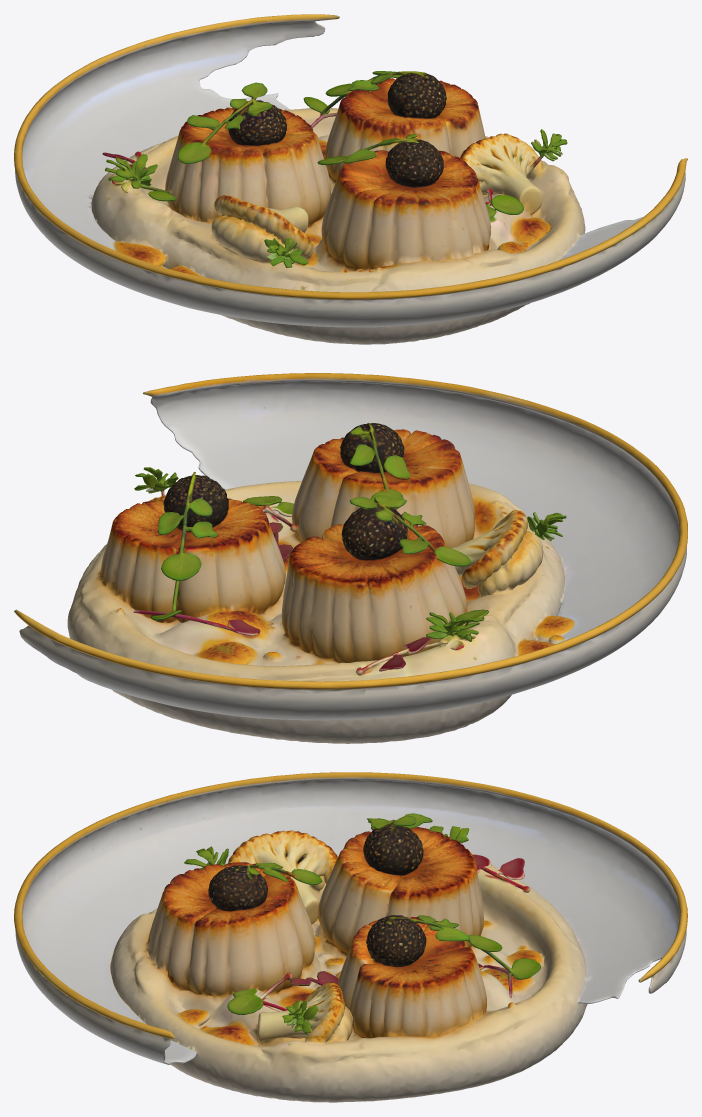
The model's file is vieiras-tripo.glb.
3 views of the same model, one above another, from view 1: azimuth 30°, elevation 25°; view 2: azimuth 150°, elevation 25°; view 3: azimuth 270°, elevation 25° (orthographic). The views are drawn at different scales.
Visible parts, largest first — view 1: tripo_node_7aa27ea9-12f6-465a-9d23-166e340445c2; view 2: tripo_node_7aa27ea9-12f6-465a-9d23-166e340445c2; view 3: tripo_node_7aa27ea9-12f6-465a-9d23-166e340445c2.
Part boxes in pixels (x1,y1,x2,y2): tripo_node_7aa27ea9-12f6-465a-9d23-166e340445c2: [14, 14, 687, 344]; tripo_node_7aa27ea9-12f6-465a-9d23-166e340445c2: [14, 373, 687, 743]; tripo_node_7aa27ea9-12f6-465a-9d23-166e340445c2: [14, 772, 687, 1102].
Bounding box in the file's own units: 0.9285 × 0.2645 × 1.
Materials: 1 (1 with a texture image).
